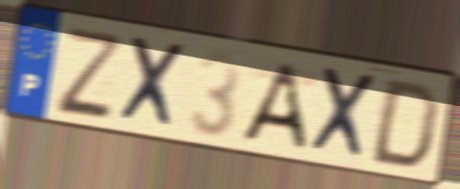3: (188, 47, 244, 140)
A: (237, 59, 309, 154)
D: (366, 76, 443, 172)
X: (306, 64, 380, 165), (115, 33, 189, 134)
Z: (55, 22, 123, 120)
